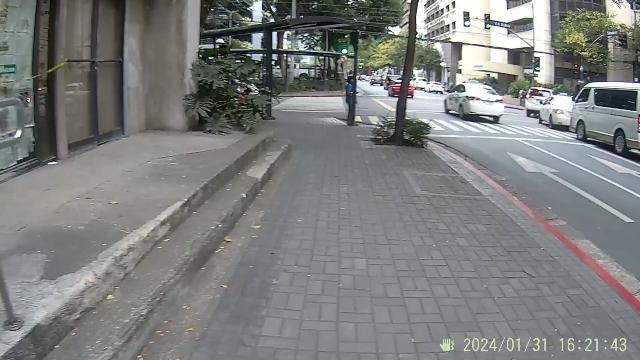tree: (386, 0, 422, 144)
